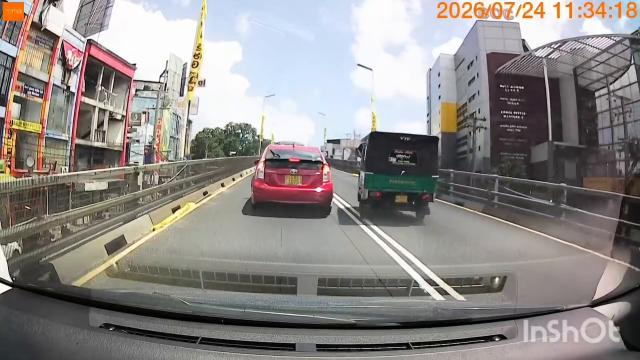illegal overtaking: (354, 127, 447, 227)
